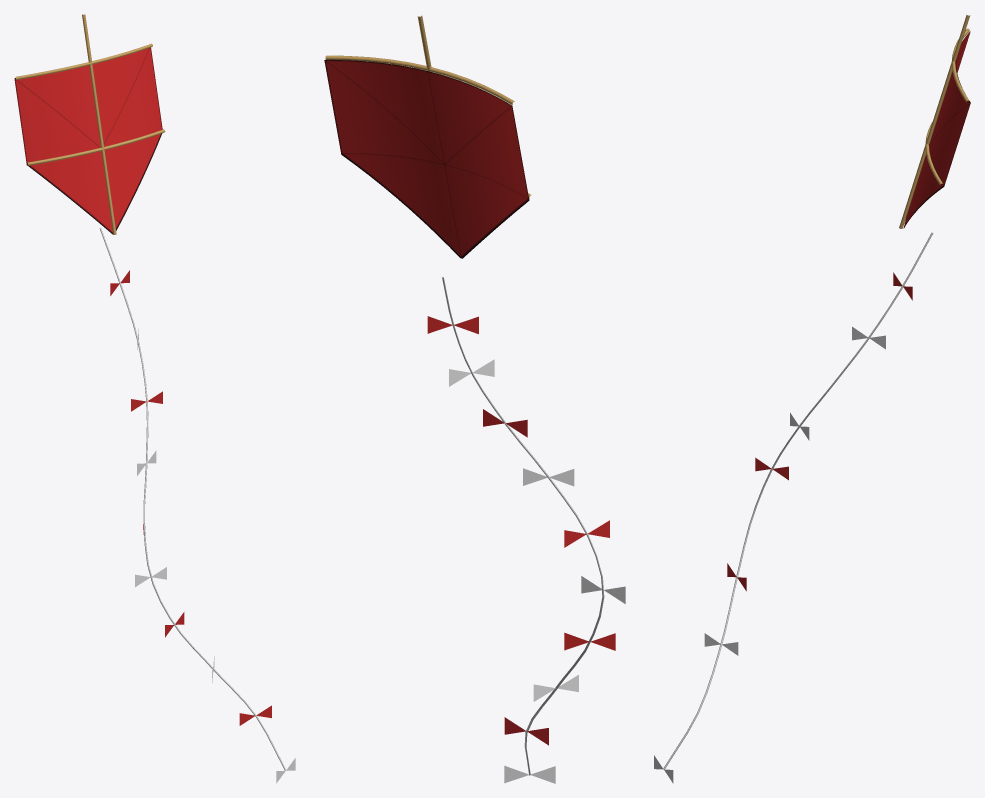
Rendered from quadrada-4-vermelha.glb.
The picture shows the model from 3 angles, left to right: view 1: azimuth 30°, elevation 25°; view 2: azimuth 150°, elevation 25°; view 3: azimuth 270°, elevation 25°; orthographic projection. The views are drawn at different scales.
Visible parts, largest first — view 1: quadrada-4-vermelha; view 2: quadrada-4-vermelha; view 3: quadrada-4-vermelha.
Boxes of the visible parts, x1,y1,x2,y2 form: quadrada-4-vermelha: [14, 14, 295, 783]; quadrada-4-vermelha: [324, 15, 625, 783]; quadrada-4-vermelha: [654, 15, 970, 783].
Bounding box in the file's own units: 1.16 × 5.21 × 2.05.
5 materials, 1 textured.
